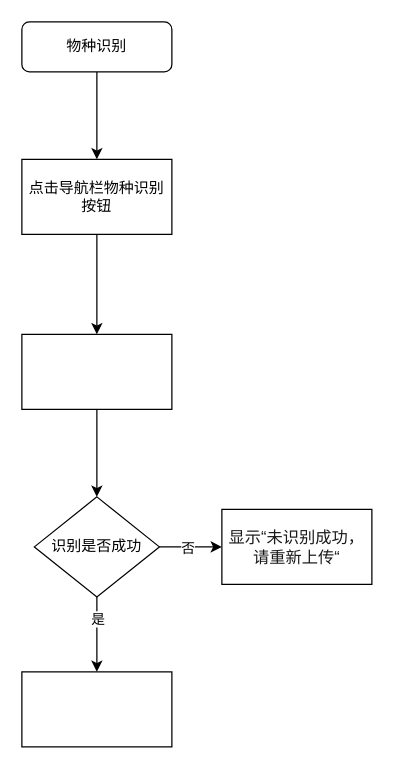
This 394x769 diagram has some shape labels left out. The shapes that lost their labels are listed below. From the top down, each one's box as (x1, y1, x2, y2) in pixels, then its label:
(21, 333, 172, 409): 点击照相机进行图片上传
(21, 671, 172, 747): 展示该物种详细信息
